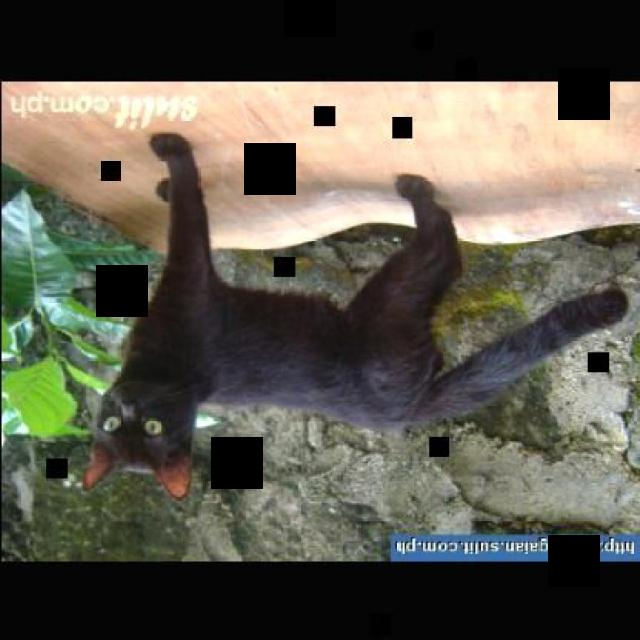unauthorized: (80, 131, 628, 498)
